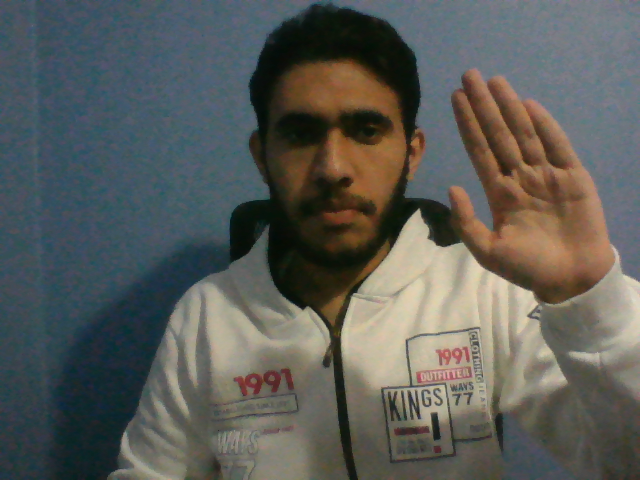hello: (442, 63, 623, 313)
